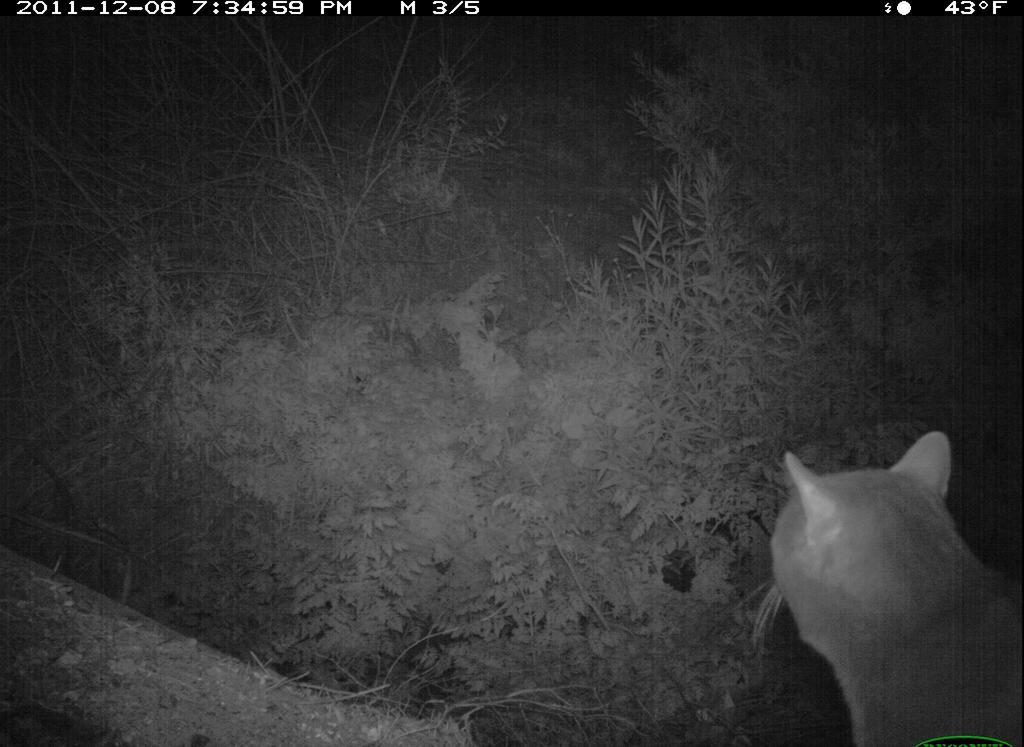cat: (733, 418, 1023, 744)
